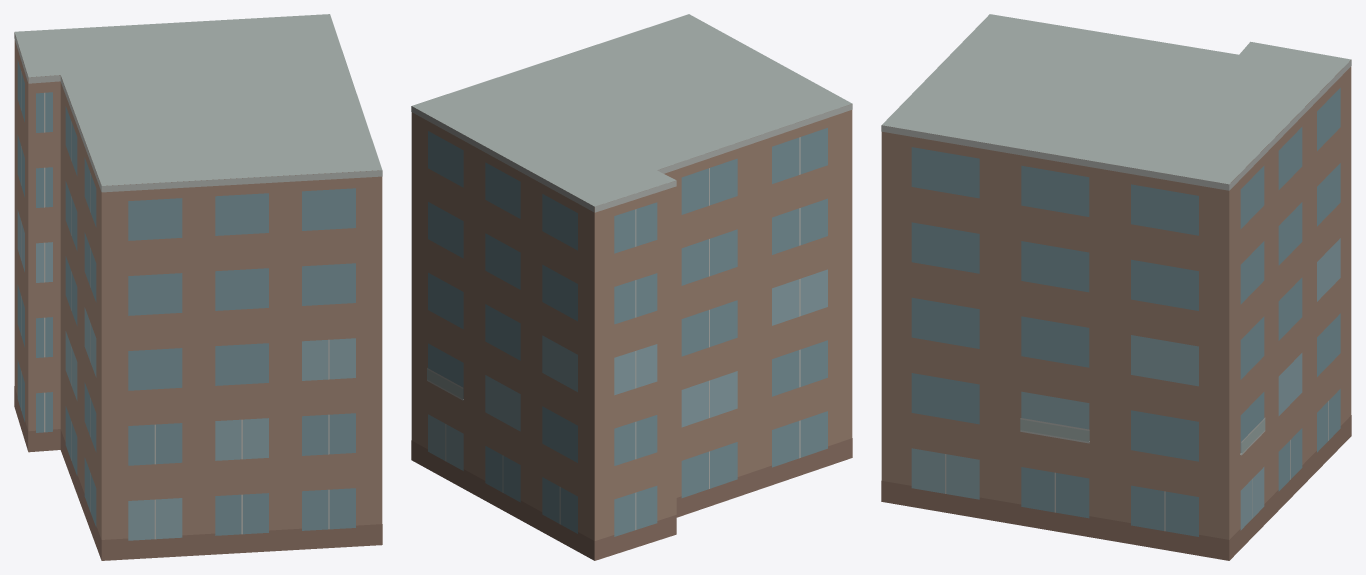
Rendered from survey-upis-32720464.glb.
3 renders of one model, left to right at view 1: azimuth 30°, elevation 25°; view 2: azimuth 150°, elevation 25°; view 3: azimuth 270°, elevation 25°, orthographic. The views are drawn at different scales.
Parts seen in each view (by area): view 1: survey-upis-32720464.tmp; view 2: survey-upis-32720464.tmp; view 3: survey-upis-32720464.tmp.
Part boxes in pixels (x1,y1,x2,y2): survey-upis-32720464.tmp: [14, 14, 382, 560]; survey-upis-32720464.tmp: [411, 14, 852, 560]; survey-upis-32720464.tmp: [881, 14, 1351, 560].
Size of the model in its own units: 13.88 by 14.3 by 16.18.
